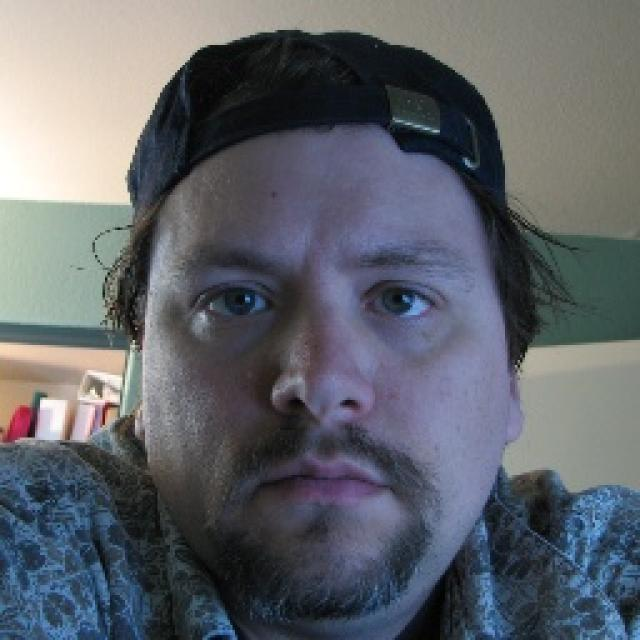earlobe: (504, 295, 528, 446)
